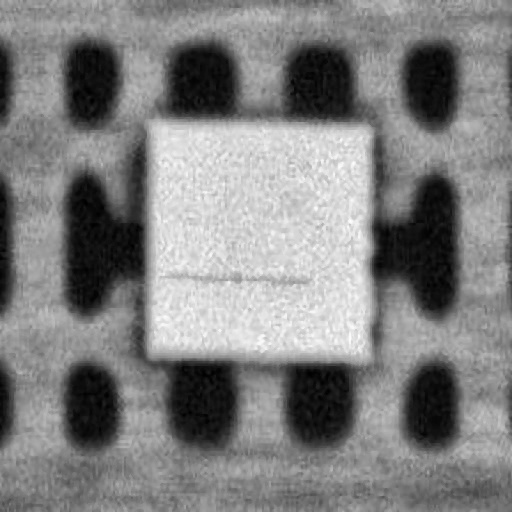DIE_CRACK: (236, 182, 459, 186)
